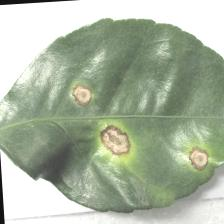canker: (63, 78, 216, 187)
